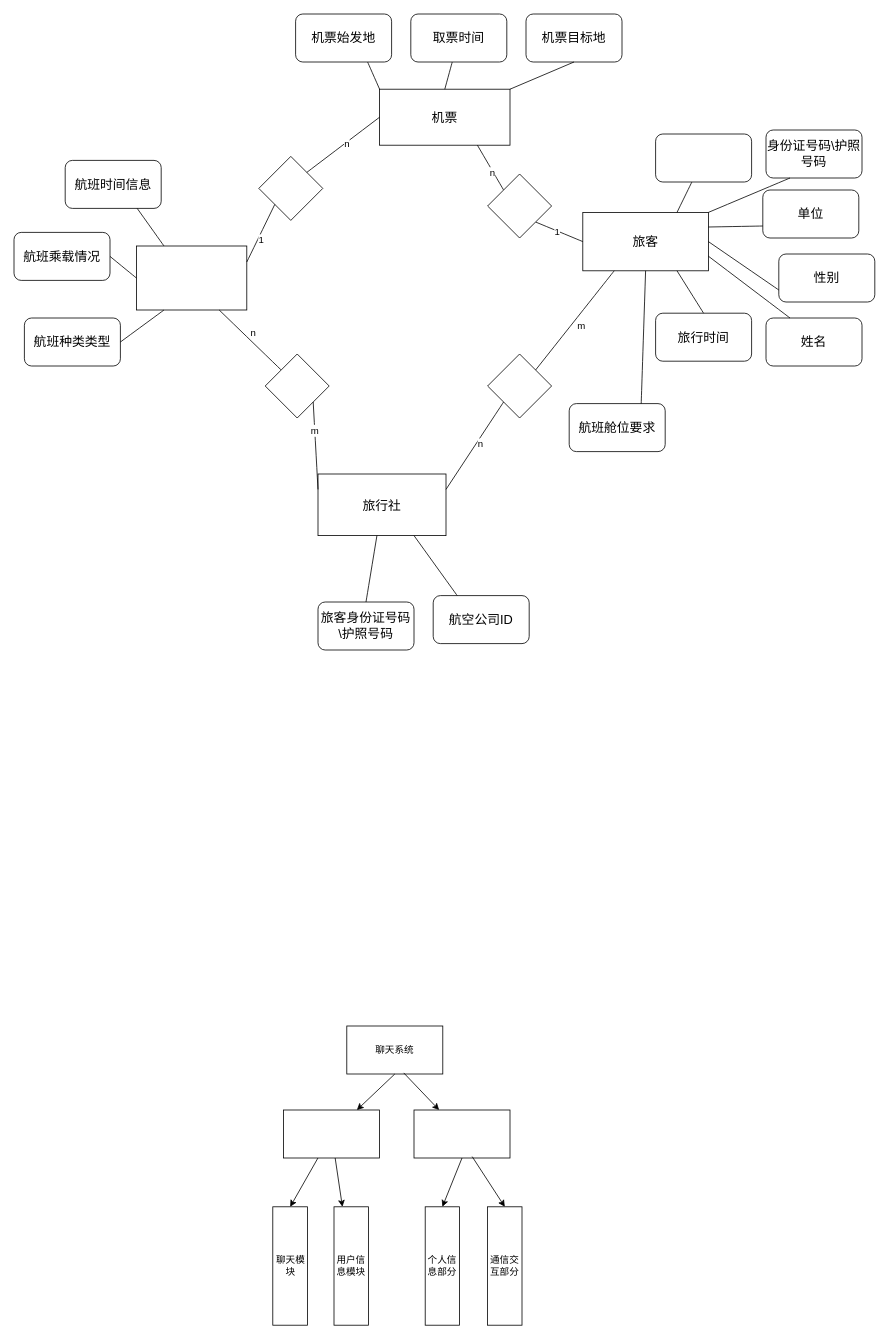
Image size: 889x1339. Some labels were removed from this diagram. The centre of each missing label's shape, as x and y in pixels:
前台功能的设计实现: the point at 461,1133
发放: the point at 290,188
合作: the point at 296,385
后端系统的设计实现: the point at 331,1133
旅行始发、目的地: the point at 703,157
航空公司: the point at 191,277
获取: the point at 519,205
预约: the point at 519,385
